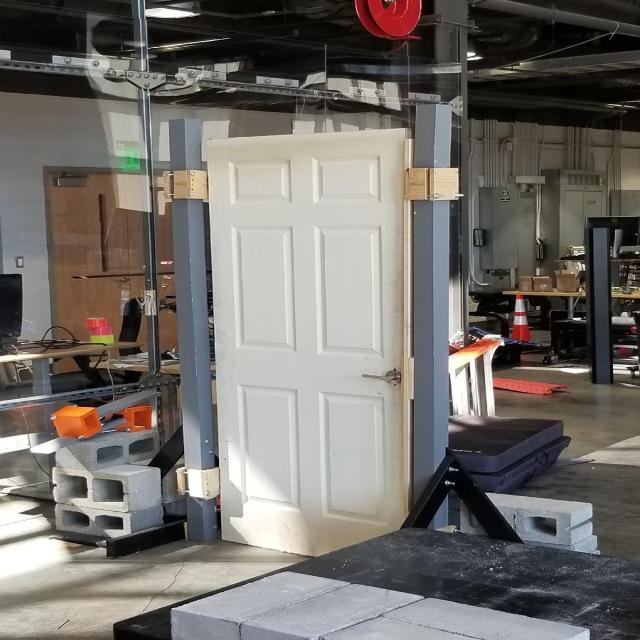door: (202, 126, 410, 568), (359, 367, 403, 388)
